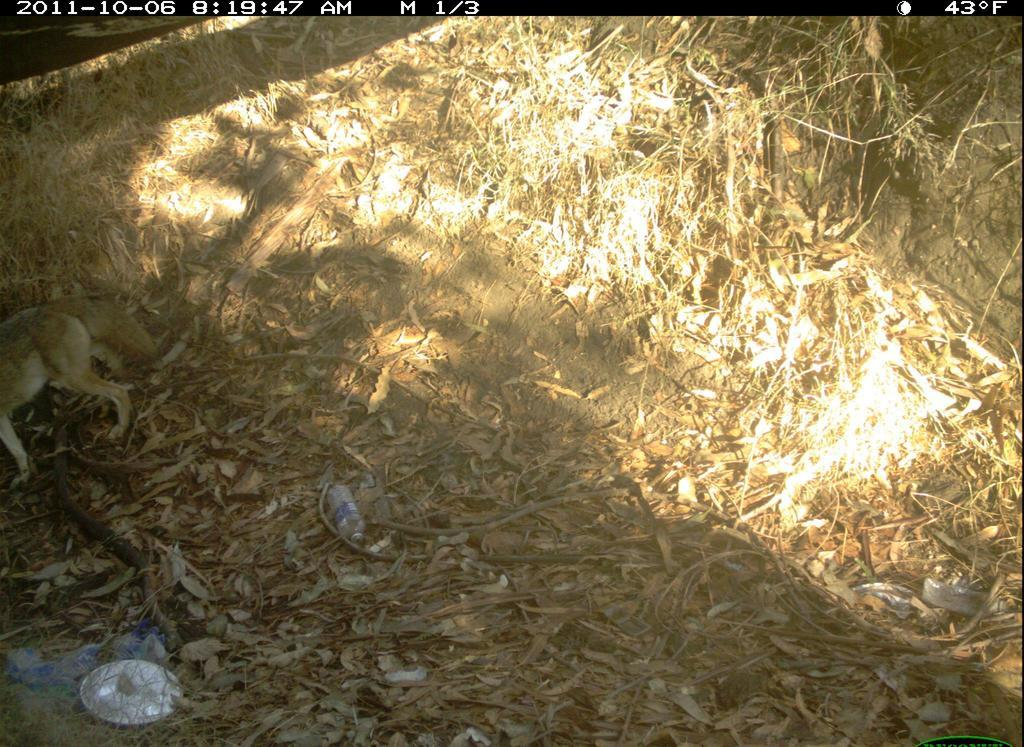coyote: (1, 294, 168, 481)
